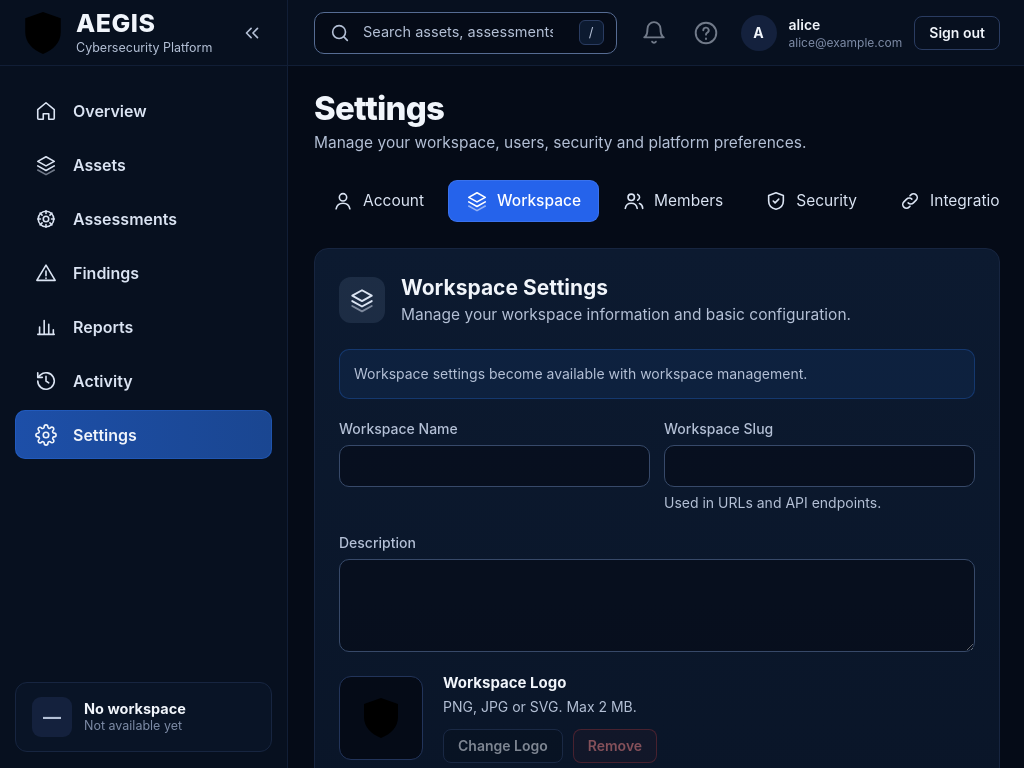
Test case: profile › changes the username with the current password and shows the new name
Click the tab "Account".
click(378, 201)  # box [314, 180, 442, 222]
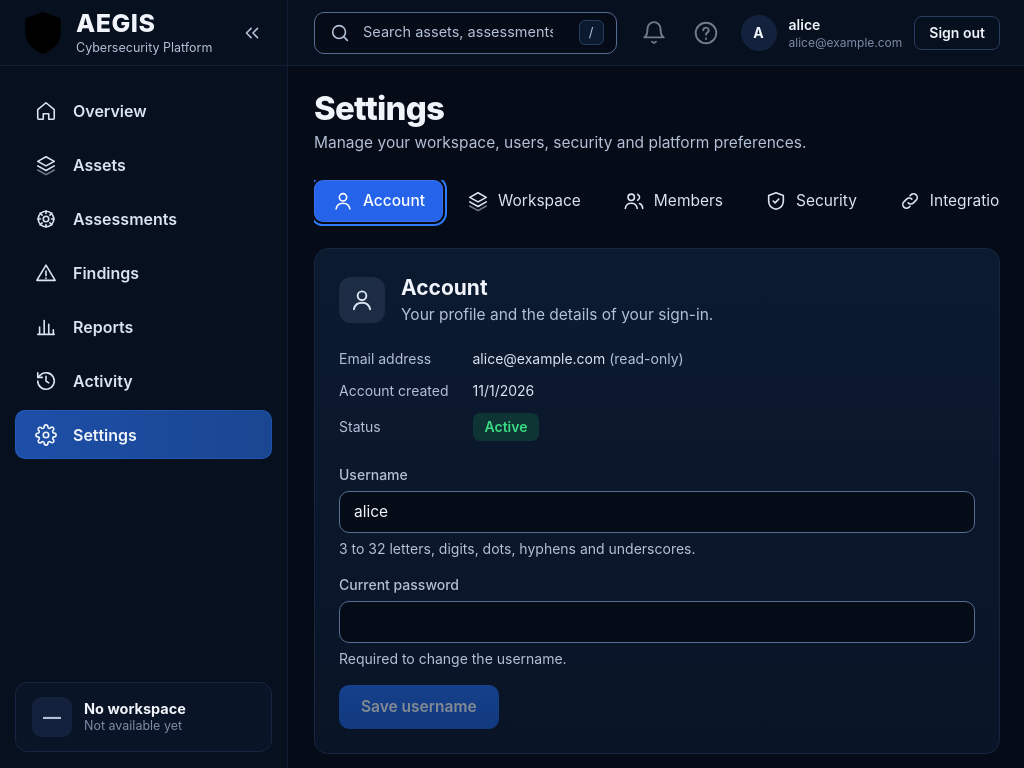
Replace the text in the field labelled "Username" with "alice.smith" at (657, 512), box [339, 491, 975, 533]
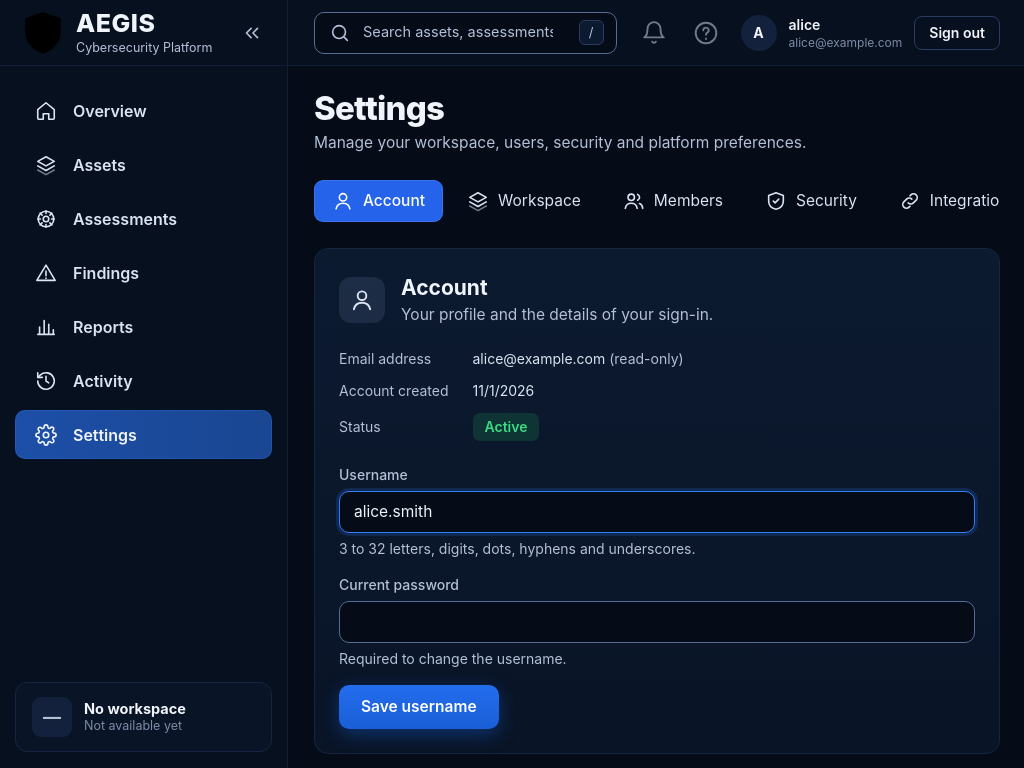
Type "correct horse battery staple" into the password field labelled "Current password".
click(657, 622); type("correct horse battery staple")  # box [339, 601, 975, 643]
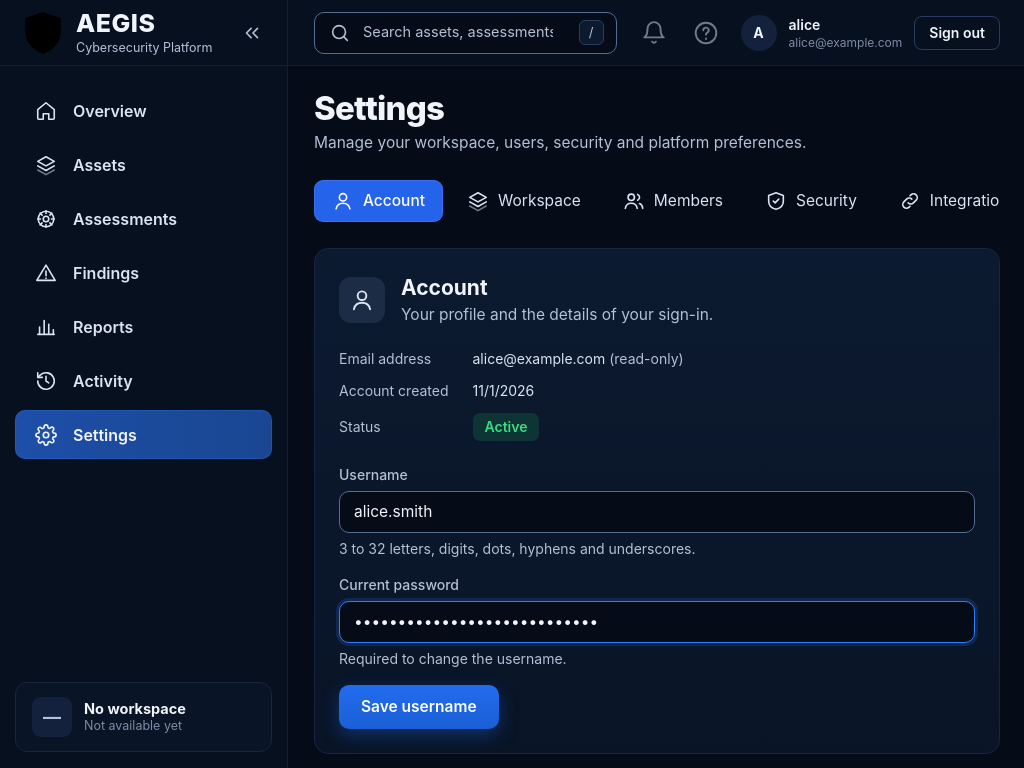
Click the button "Save username".
click(419, 707)  # box [339, 685, 499, 729]
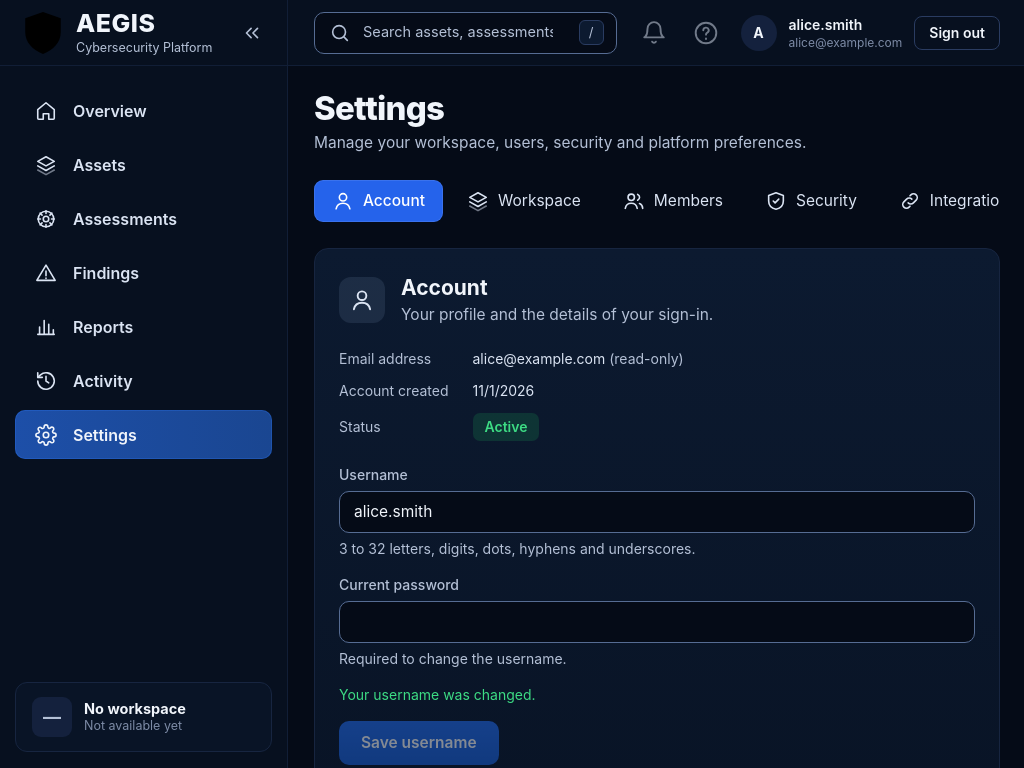
Now the text "Your username was changed." is shown, box [339, 686, 536, 703]
Now the password field labelled "Current password" is empty, box [339, 601, 975, 643]
Now the text "alice.smith" is shown, box [788, 16, 862, 32]
